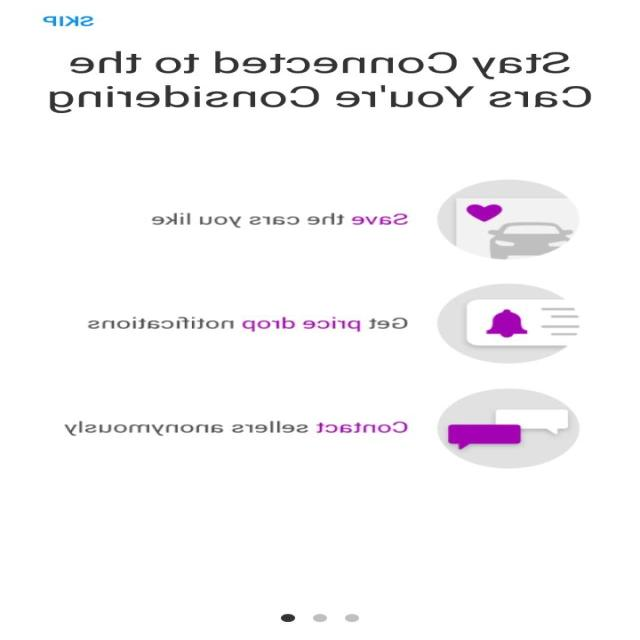Image: (436, 388, 580, 469), (438, 179, 580, 260), (438, 283, 580, 364)
Text: (50, 50, 592, 114), (64, 420, 409, 436), (88, 316, 409, 332), (152, 212, 410, 228), (44, 16, 96, 27)
